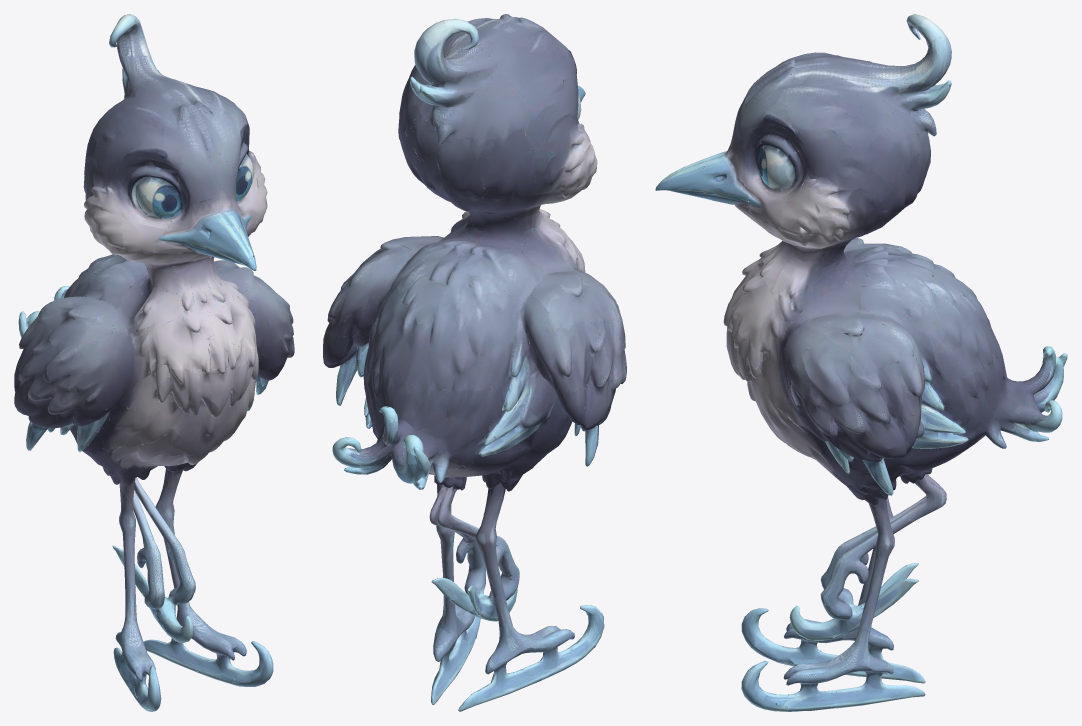
The picture shows the model from 3 angles, left to right: view 1: azimuth 30°, elevation 25°; view 2: azimuth 150°, elevation 25°; view 3: azimuth 270°, elevation 25°; orthographic projection. The views are drawn at different scales.
Parts seen in each view (by area): view 1: Mesh_0; view 2: Mesh_0; view 3: Mesh_0.
Boxes of the visible parts, x1,y1,x2,y2 form: Mesh_0: [14, 14, 294, 711]; Mesh_0: [323, 14, 626, 711]; Mesh_0: [655, 14, 1067, 711].
Size of the model in its own units: 0.8037 by 1.9 by 1.06.
Materials: 1 (1 with a texture image).
